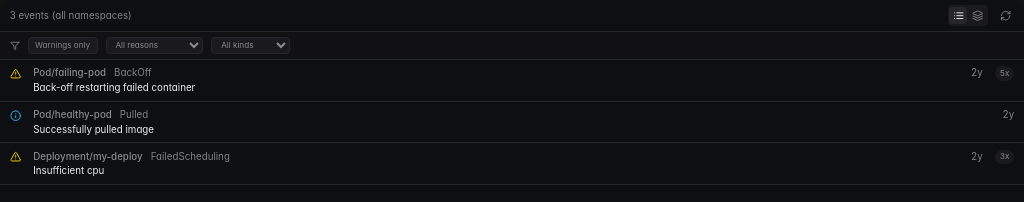
Test case: EventsTab › shows active filter count
Expected: the text "Pod/failing-pod" is shown, [33,66,106,79]
Note: Activate warnings-only
Click the button with test id "warnings-only-toggle".
click(62, 45)  # box [28,37,98,54]
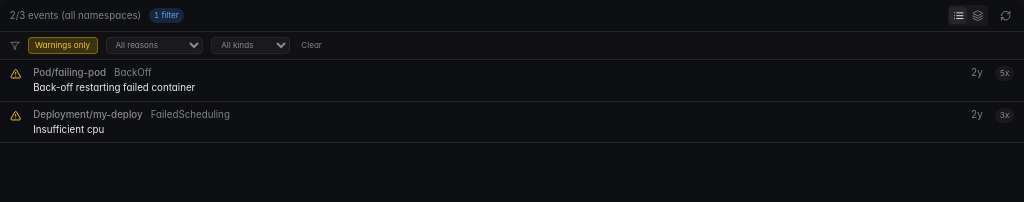
Expected: the text with test id "active-filter-count" reads "1 filter", [149,8,184,23]
Note: Add reason filter
Select "BackOff" in the dropdown with test id "reason-filter" at (154, 45), box [106,37,203,54]
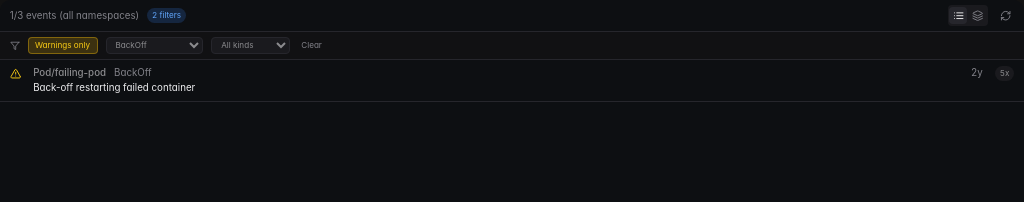
Expected: the text with test id "active-filter-count" reads "2 filters", [147,8,186,23]
